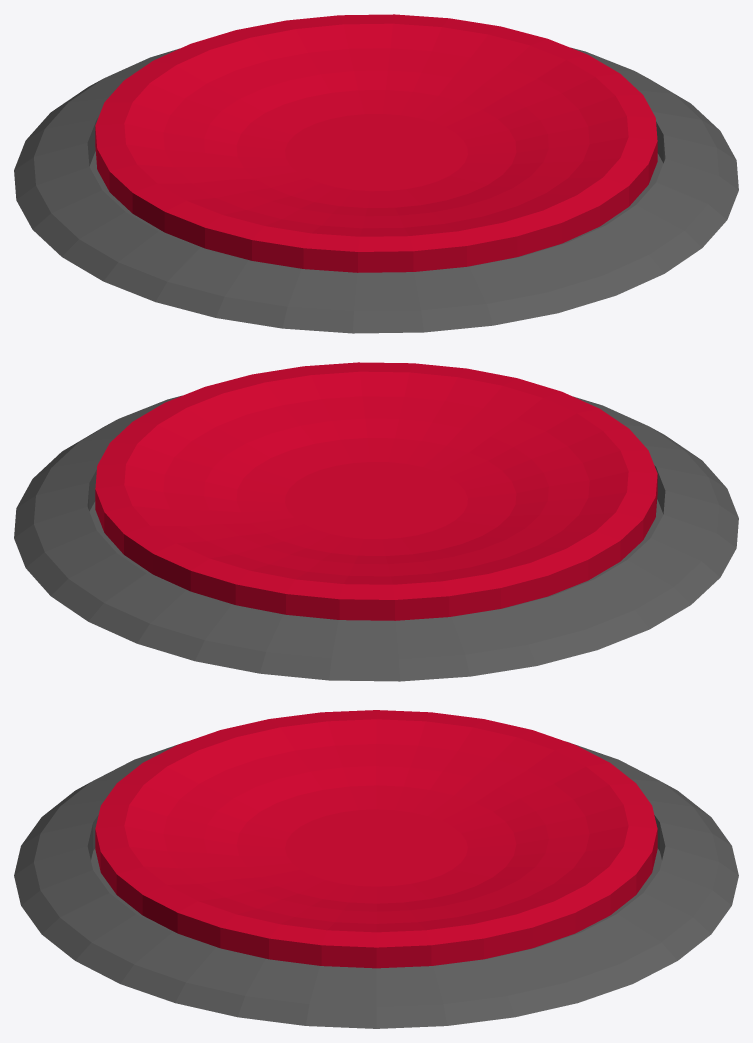
The model's file is props.fbx_b13.fbx.
3 views of the same model, one above another, from view 1: azimuth 30°, elevation 25°; view 2: azimuth 150°, elevation 25°; view 3: azimuth 270°, elevation 25° (orthographic).
Parts seen in each view (by area): view 1: Circle.014, Circle.016; view 2: Circle.014, Circle.016; view 3: Circle.014, Circle.016.
Boxes of the visible parts, <box> form: Circle.014: <box>95,14,657,272</box>; Circle.016: <box>14,47,738,333</box>; Circle.014: <box>95,362,657,620</box>; Circle.016: <box>14,395,738,681</box>; Circle.014: <box>95,710,657,968</box>; Circle.016: <box>14,742,738,1028</box>.
Size of the model in its own units: 1.11 by 0.0842 by 1.11.
